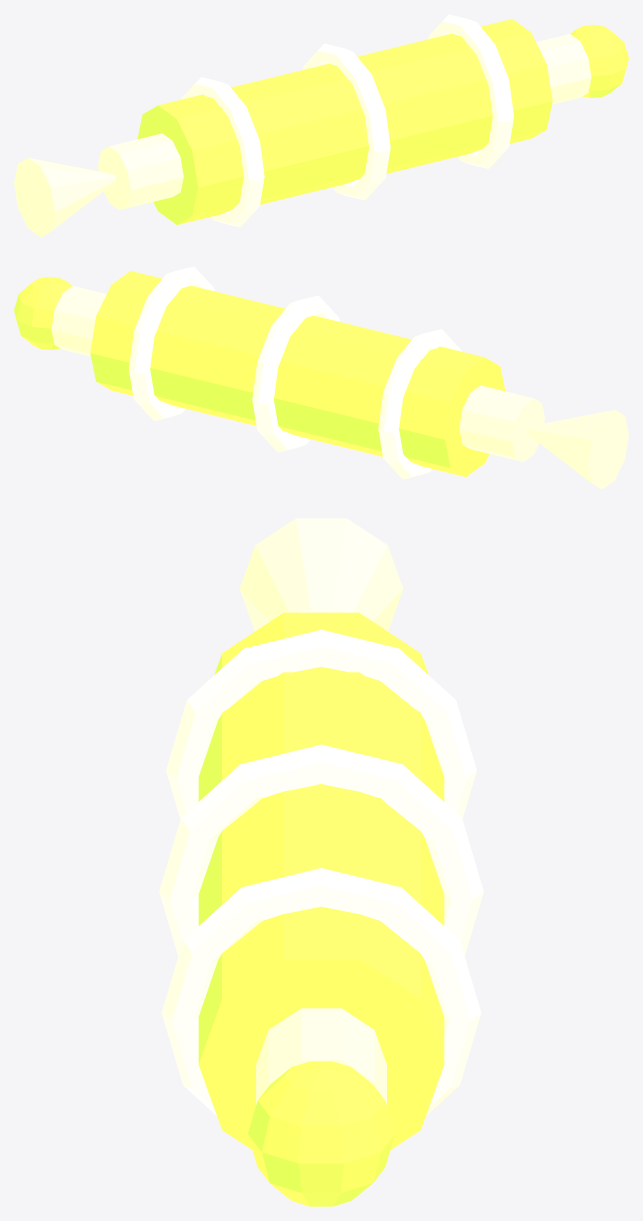
Rendered from BossBullet.fbx.
3 renders of one model, top to bottom at view 1: azimuth 30°, elevation 25°; view 2: azimuth 150°, elevation 25°; view 3: azimuth 270°, elevation 25°, orthographic. The views are drawn at different scales.
Visible parts, largest first — view 1: BossLaserCore; view 2: BossLaserCore; view 3: BossLaserCore.
Part boxes in pixels (x1,y1,x2,y2): BossLaserCore: (14,14,628,237); BossLaserCore: (14,266,628,489); BossLaserCore: (159,518,483,1206).
Size of the model in its own units: 166 by 39.66 by 39.66.
